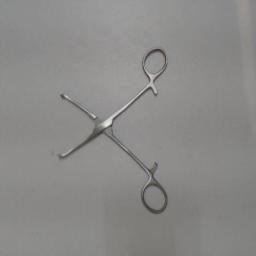Allis Tissue Forceps: (55, 41, 171, 217)
